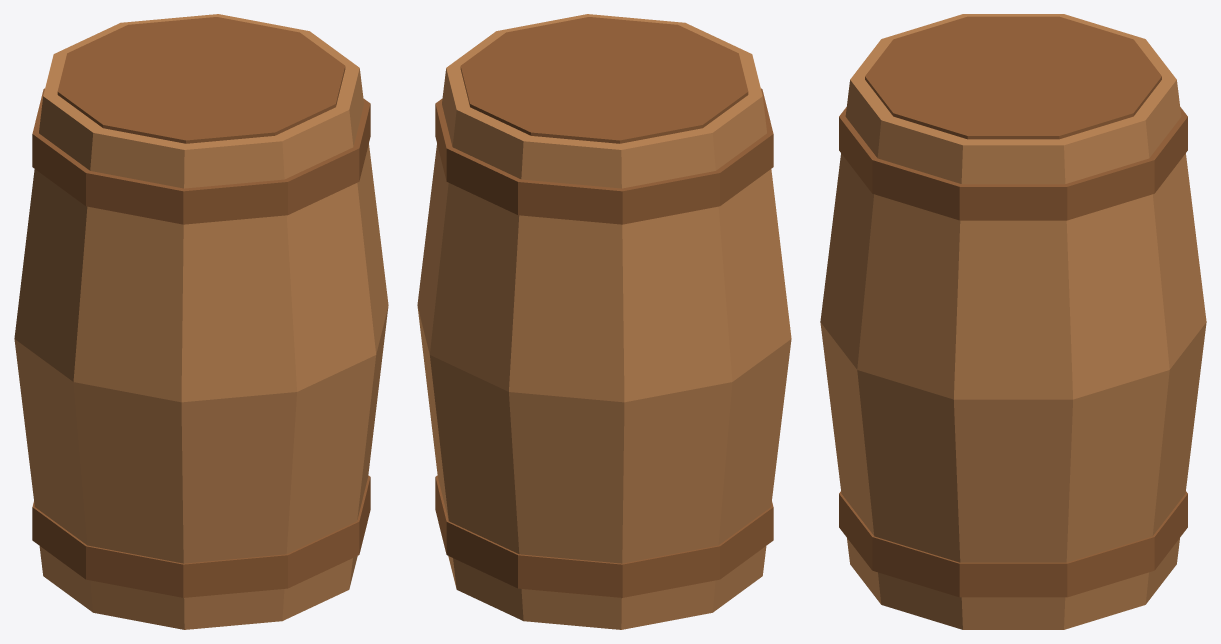
The model's file is barrel.glb.
3 renders of one model, left to right at view 1: azimuth 30°, elevation 25°; view 2: azimuth 150°, elevation 25°; view 3: azimuth 270°, elevation 25°, orthographic.
Visible parts, largest first — view 1: barrel; view 2: barrel; view 3: barrel.
Boxes of the visible parts, x1,y1,x2,y2 form: barrel: [14, 14, 388, 629]; barrel: [417, 14, 791, 629]; barrel: [820, 14, 1206, 629].
Bounding box in the file's own units: 0.4945 × 0.725 × 0.52.
